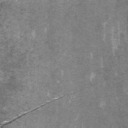finishing roll printing: (0, 90, 82, 128)
